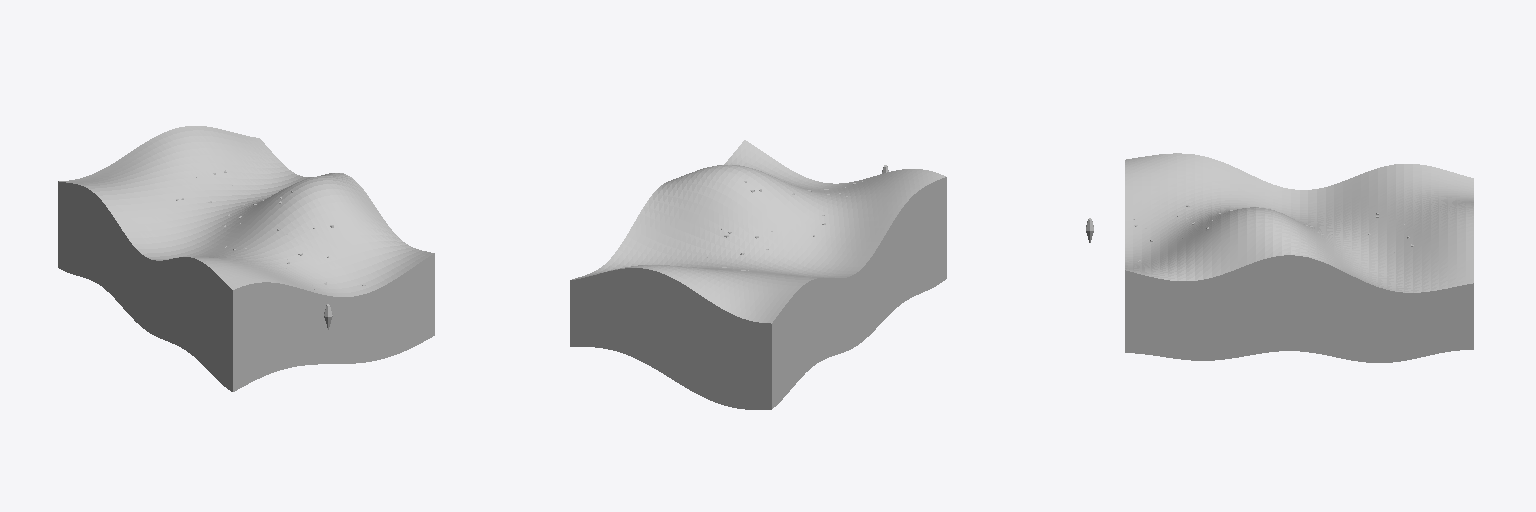
File: crystal_cave_area.obj
3 renders of one model, left to right at view 1: azimuth 30°, elevation 25°; view 2: azimuth 150°, elevation 25°; view 3: azimuth 270°, elevation 25°, orthographic.
Size of the model in its own units: 4 by 2.55 by 6.67.